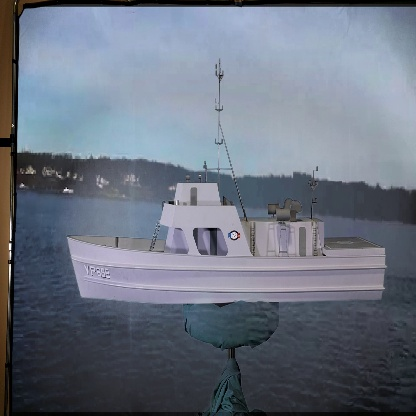YP689: (61, 61, 387, 303)
